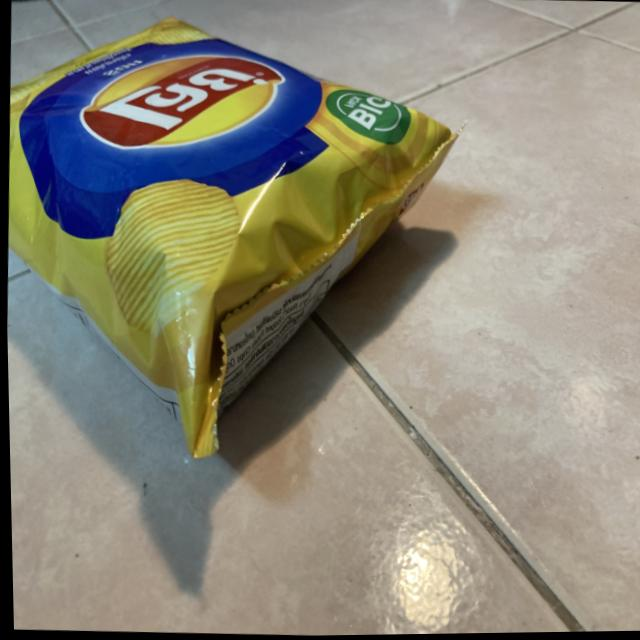LayYellow: (0, 11, 492, 462)
